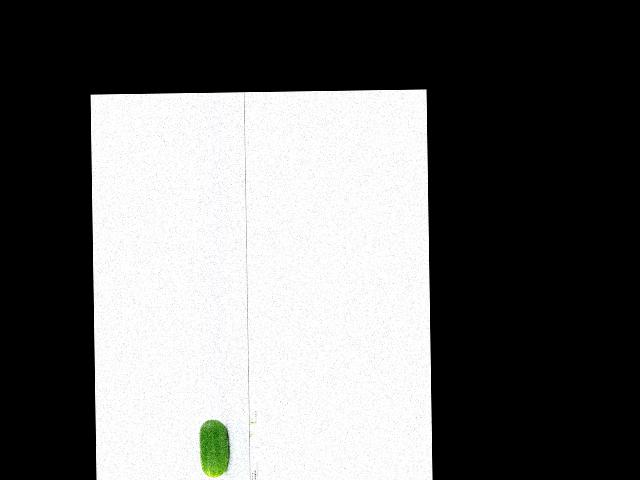cucumber: (200, 419, 229, 477)
